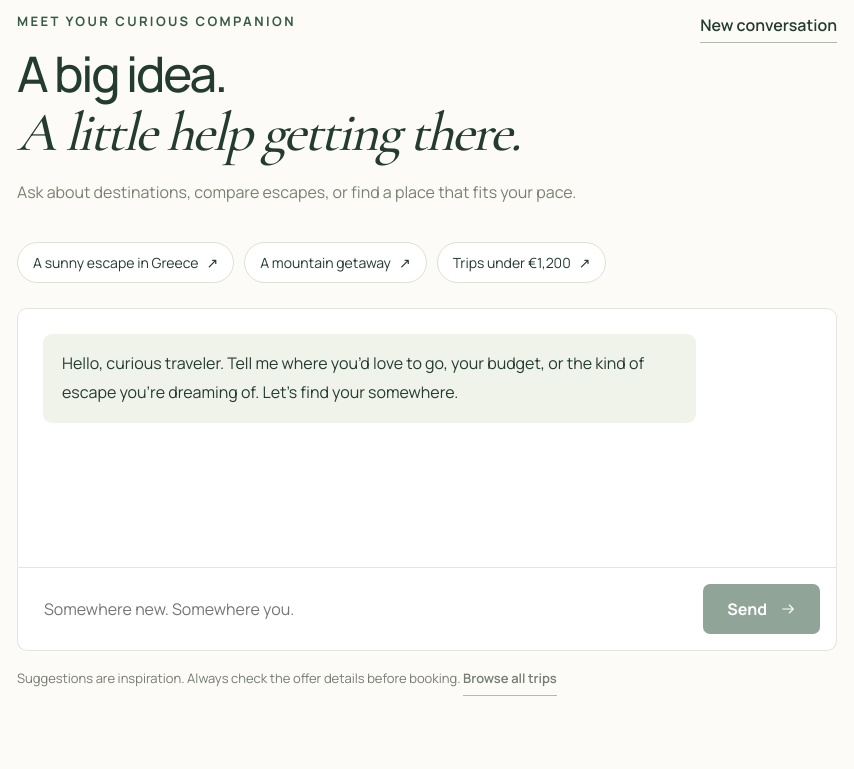
Test case: network errors are visible to travelers
Step 1. Click the button "A mountain getaway↗" → (335, 262), box [244, 242, 427, 283]
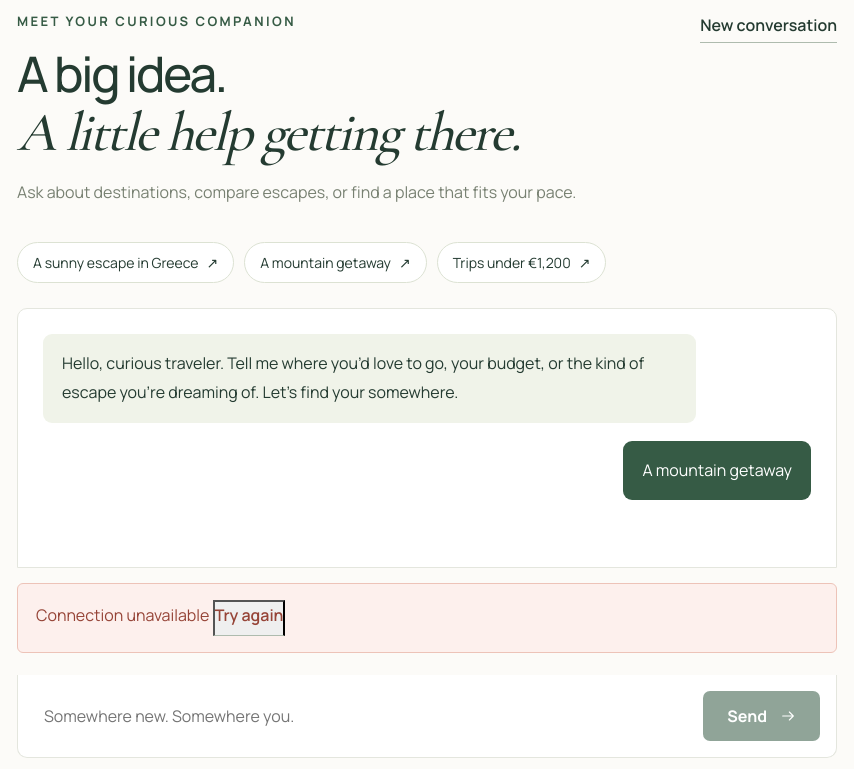
Result: the message shows "Connection unavailable" at [36, 604, 209, 626]
